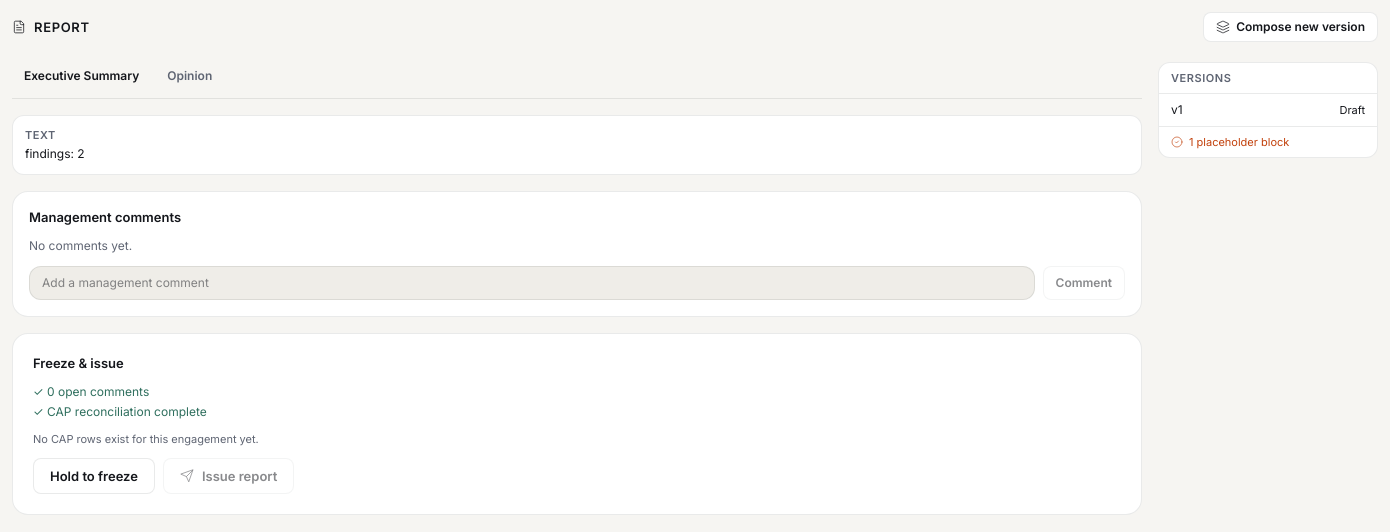
Test: Phase 6 UI panels (6H) › ReportEditorPanel › renders section tabs, blocks and highlights a placeholder in cinnabar
The width and height of the screenshot is (1390, 532).
Expected: the element with test id "report-block-b1" is shown, x1=12 y1=115 x2=1142 y2=175
Click the tab with test id "report-section-opinion": (190,76) x1=155 y1=62 x2=224 y2=90
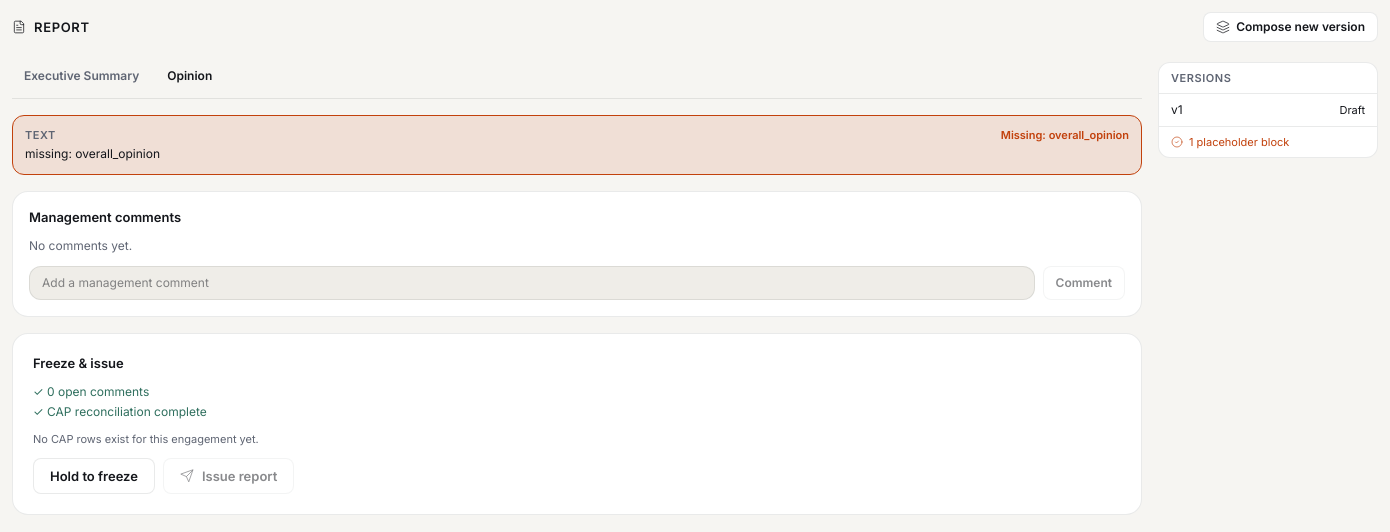
Expected: the element with test id "report-block-b2" is shown, x1=12 y1=115 x2=1142 y2=175
Expected: the text with test id "report-placeholder-b2" shows "overall_opinion", x1=1049 y1=128 x2=1129 y2=142
